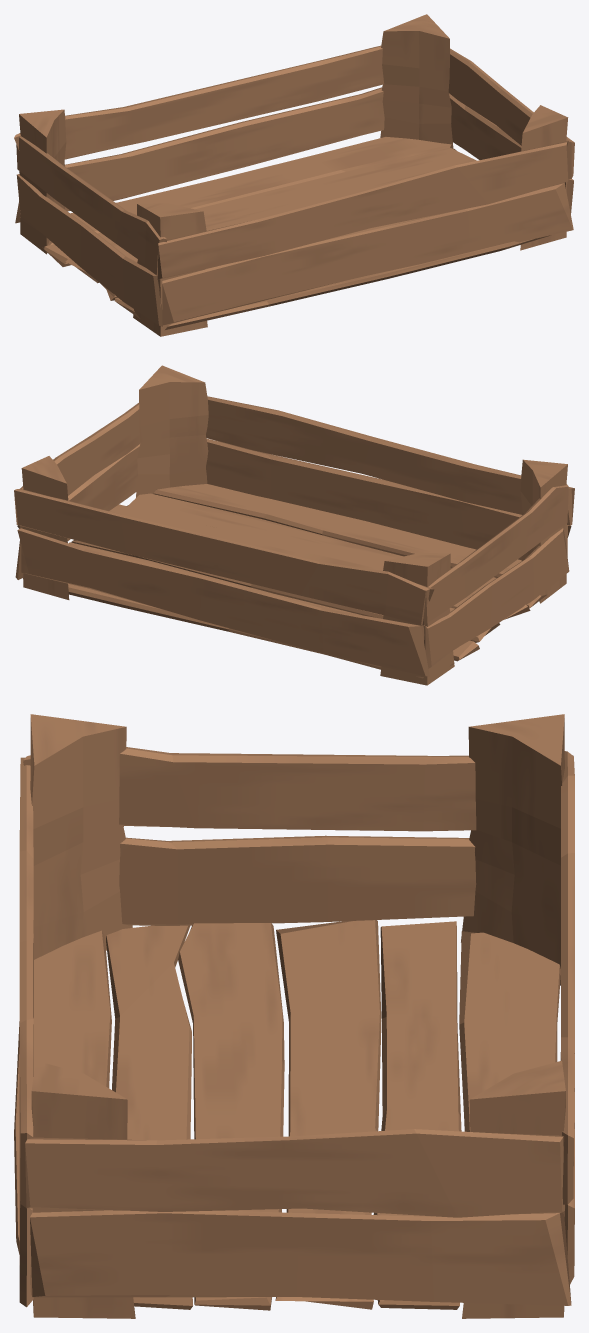
Rendered from fruit crate.glb.
3 renders of one model, top to bottom at view 1: azimuth 30°, elevation 25°; view 2: azimuth 150°, elevation 25°; view 3: azimuth 270°, elevation 25°, orthographic. The views are drawn at different scales.
Parts seen in each view (by area): view 1: Cube.013; view 2: Cube.013; view 3: Cube.013.
Boxes of the visible parts, bbox=[...] form: Cube.013: bbox=[14, 14, 574, 336]; Cube.013: bbox=[14, 365, 574, 685]; Cube.013: bbox=[14, 714, 574, 1318].
Bounding box in the file's own units: 10.34 × 2.86 × 6.32.
1 material, 1 textured.
